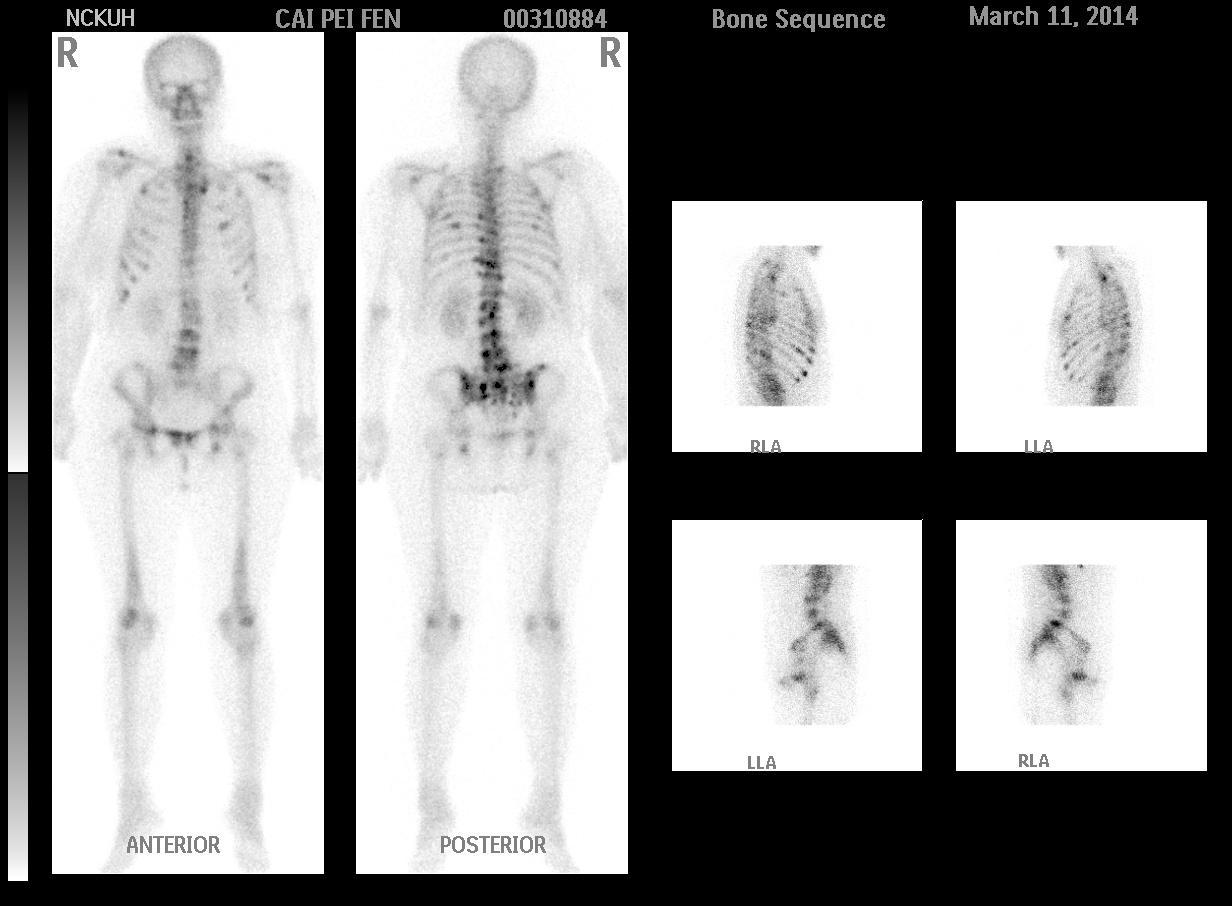person: (52, 32, 628, 874)
